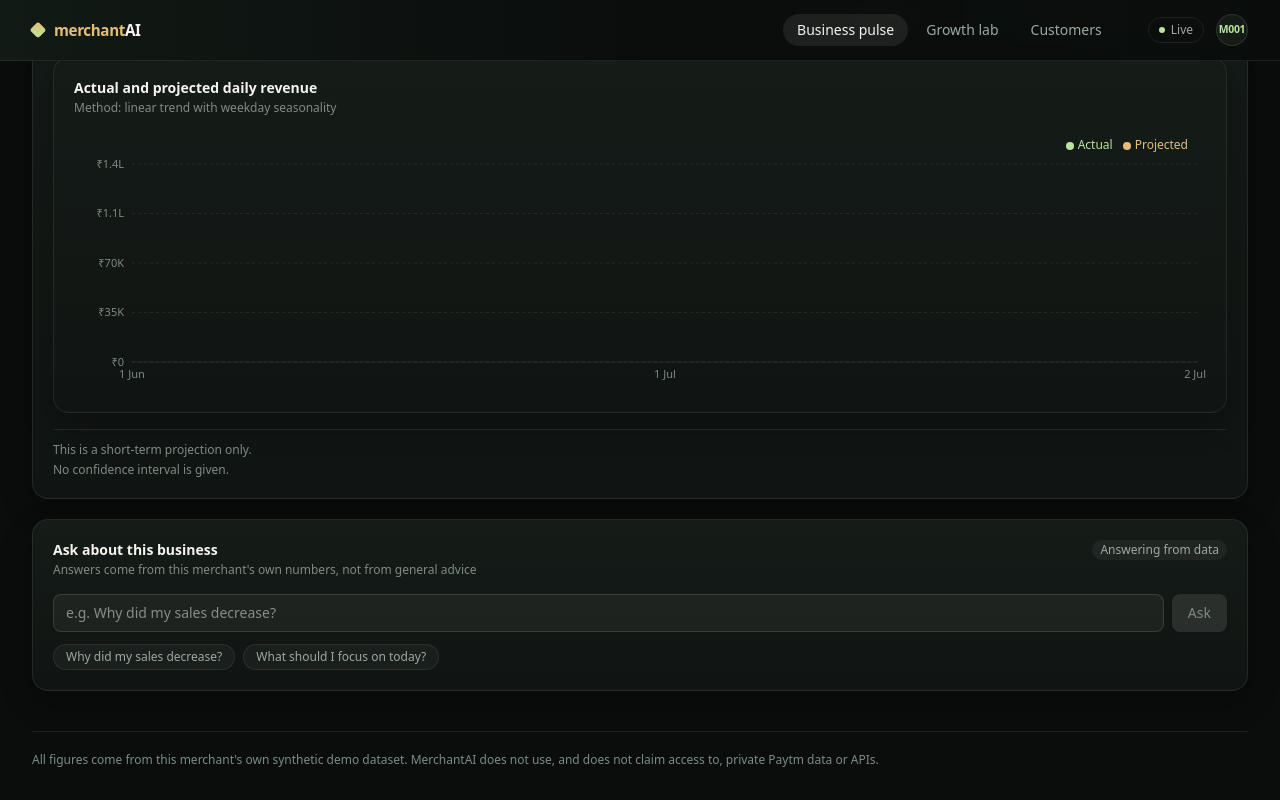
assistant › asks and renders a grounded answer
The image size is (1280, 800).
(page scrolled)
Click the button "Why did my sales decrease?": {"x": 144, "y": 657} [53,644,235,670]
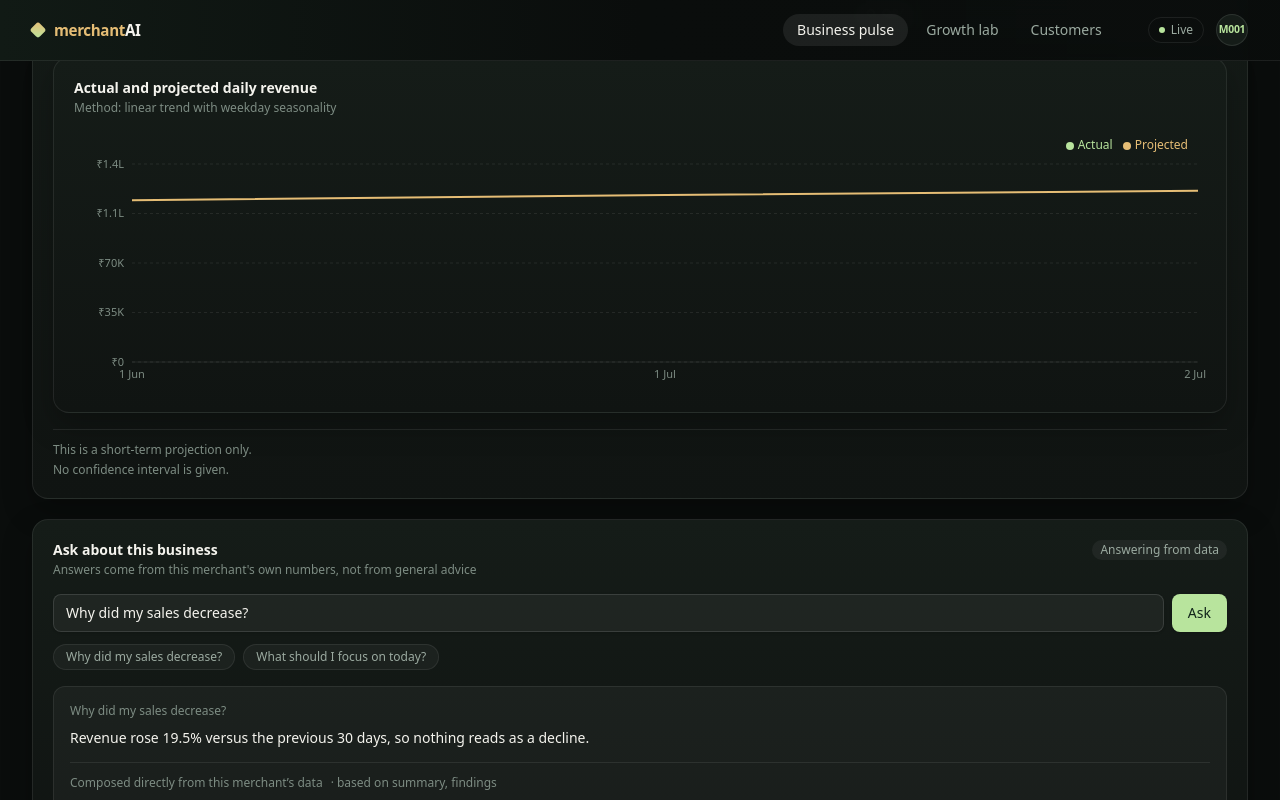
Now the text "nothing reads as a decline" is shown, box [70,728,589,747]
Now the text "Composed directly from this merchant’s data" is shown, box [70,775,323,791]
